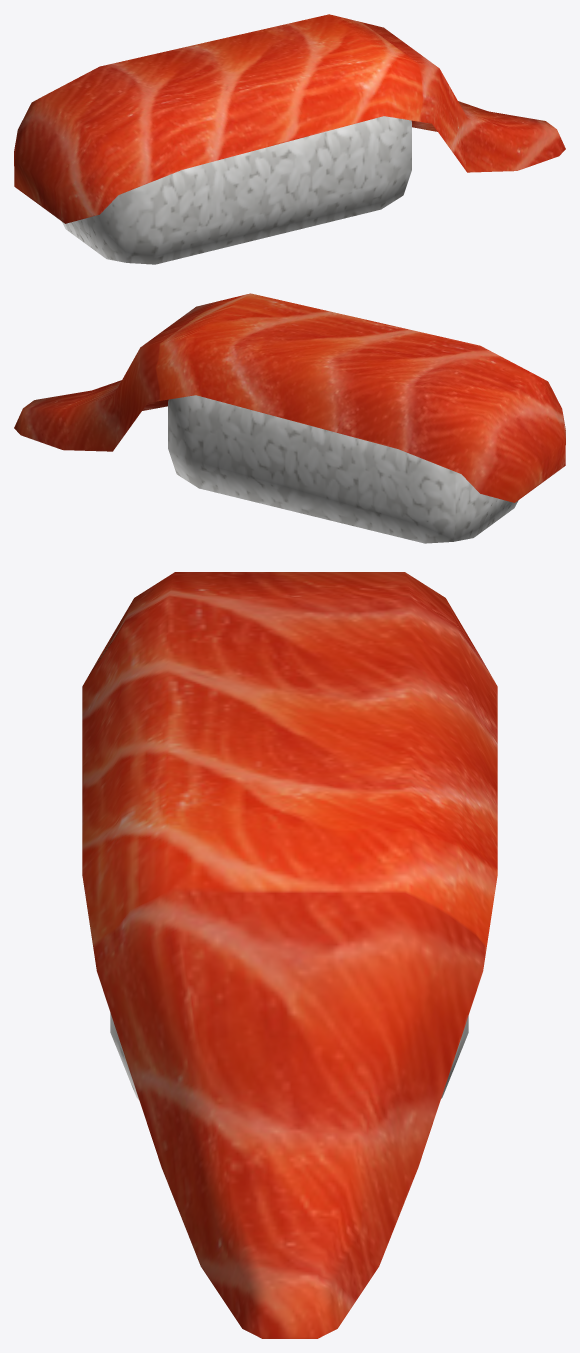
Rendered from SM_Salmon_01.FBX.
3 views of the same model, one above another, from view 1: azimuth 30°, elevation 25°; view 2: azimuth 150°, elevation 25°; view 3: azimuth 270°, elevation 25° (orthographic). The views are drawn at different scales.
Parts seen in each view (by area): view 1: Salmon_01; view 2: Salmon_01; view 3: Salmon_01.
Boxes of the visible parts, x1,y1,x2,y2 form: Salmon_01: [14, 14, 565, 264]; Salmon_01: [14, 293, 565, 543]; Salmon_01: [82, 572, 497, 1338].
Bounding box in the file's own units: 10.12 × 2.97 × 3.48.
